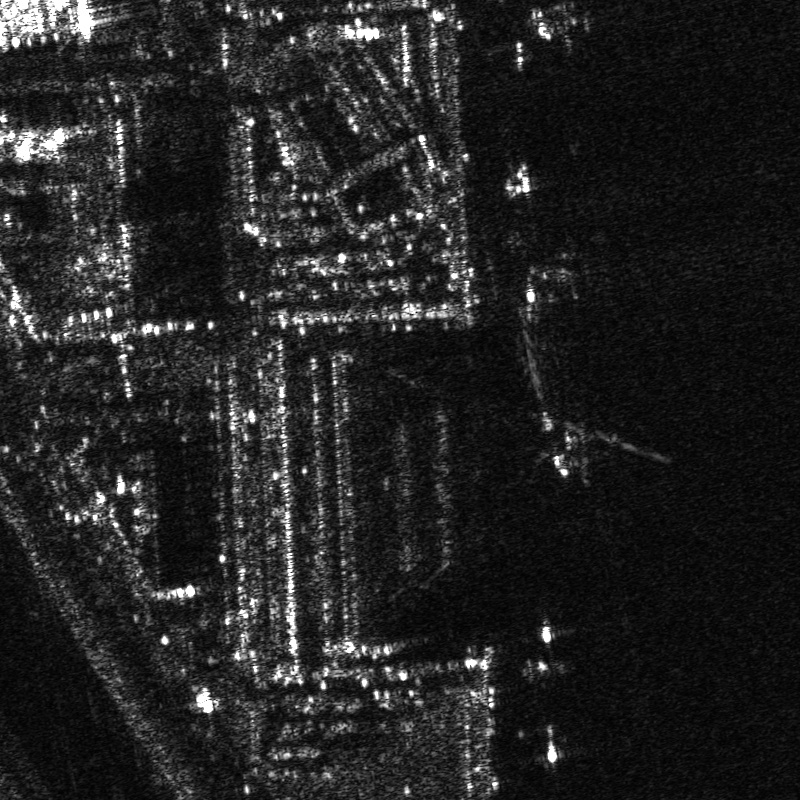A220: (534, 397, 618, 494)
